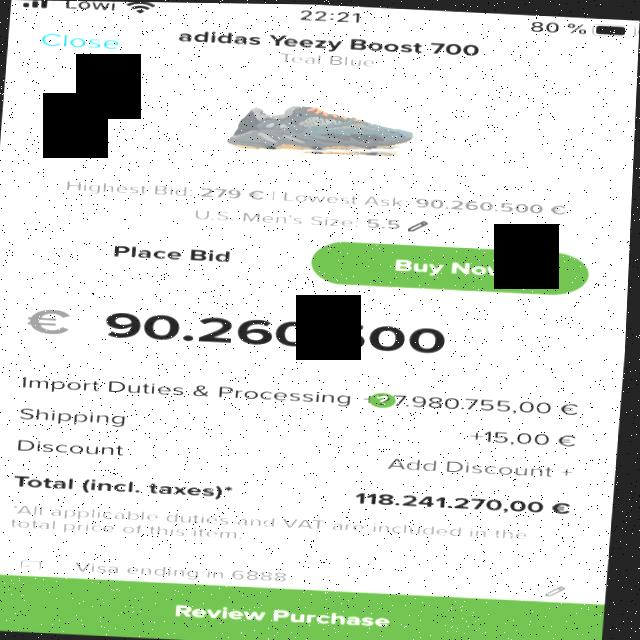shoe: (226, 101, 422, 159)
